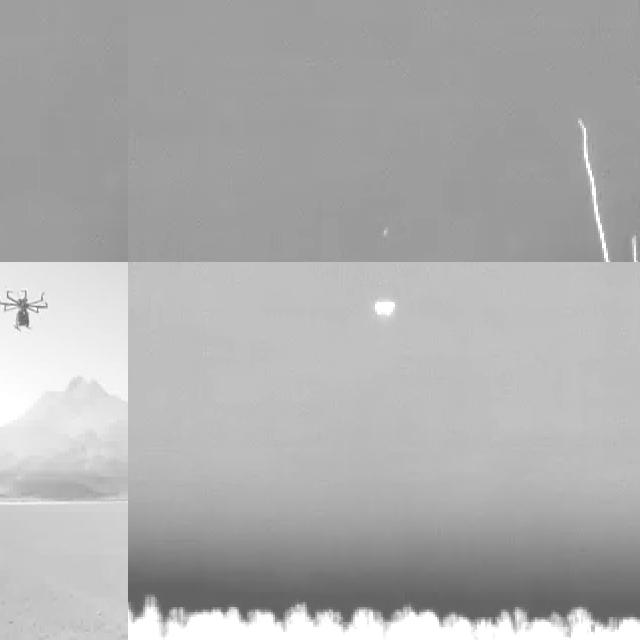0: (372, 219, 396, 252)
1: (349, 290, 417, 332)
drone: (0, 279, 47, 333)
